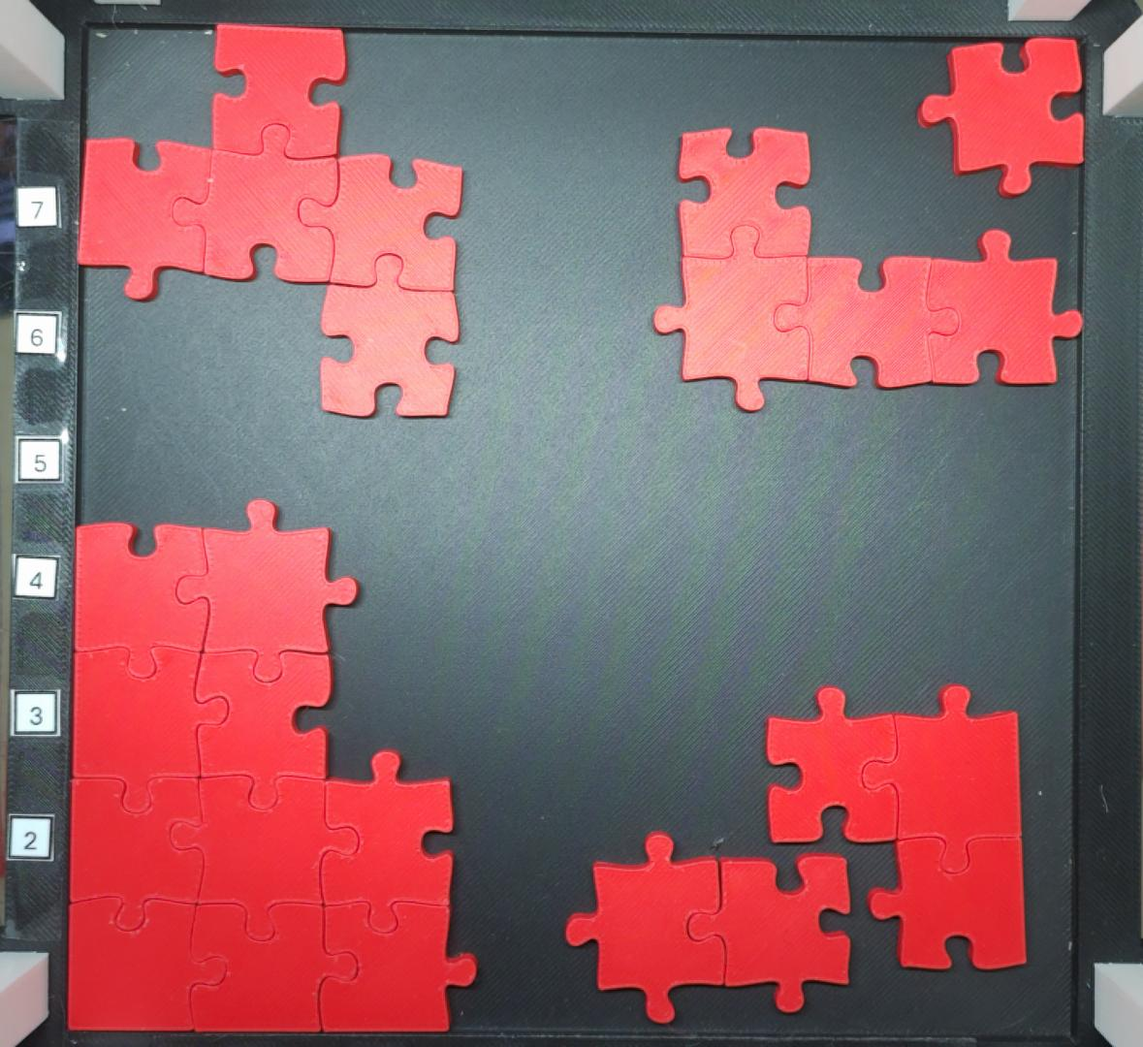p_1: (916, 34, 1089, 200)
p_2: (562, 830, 852, 1026)
p_3: (763, 682, 1030, 973)
p_4: (650, 124, 1085, 414)
p_m: (65, 496, 481, 1035), (74, 20, 464, 420)
